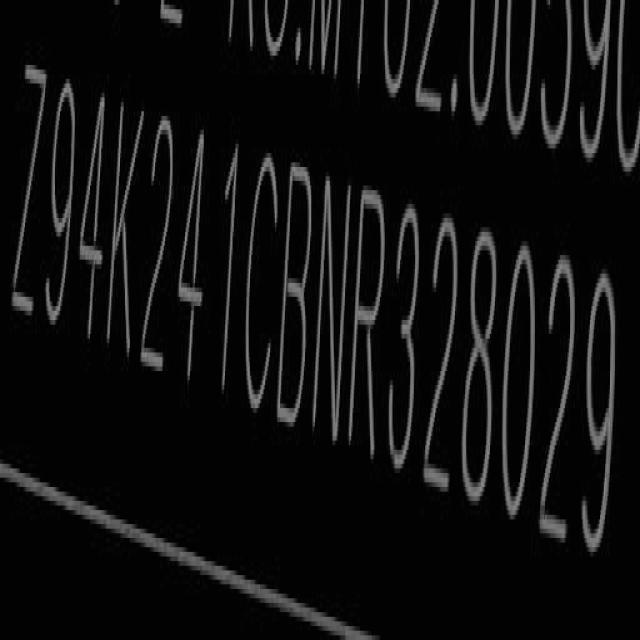0: (502, 242, 538, 526)
1: (218, 138, 241, 404)
2: (545, 263, 578, 548), (429, 214, 459, 494), (143, 106, 173, 379)
3: (392, 197, 422, 472)
4: (78, 83, 110, 350), (180, 126, 210, 386)
8: (463, 226, 495, 507)
9: (584, 277, 619, 561), (48, 73, 77, 333)
B: (281, 156, 316, 432)
C: (246, 148, 278, 416)
K: (111, 93, 142, 365)
N: (317, 173, 350, 447)
R: (351, 185, 386, 463)
Z: (13, 57, 44, 325)
